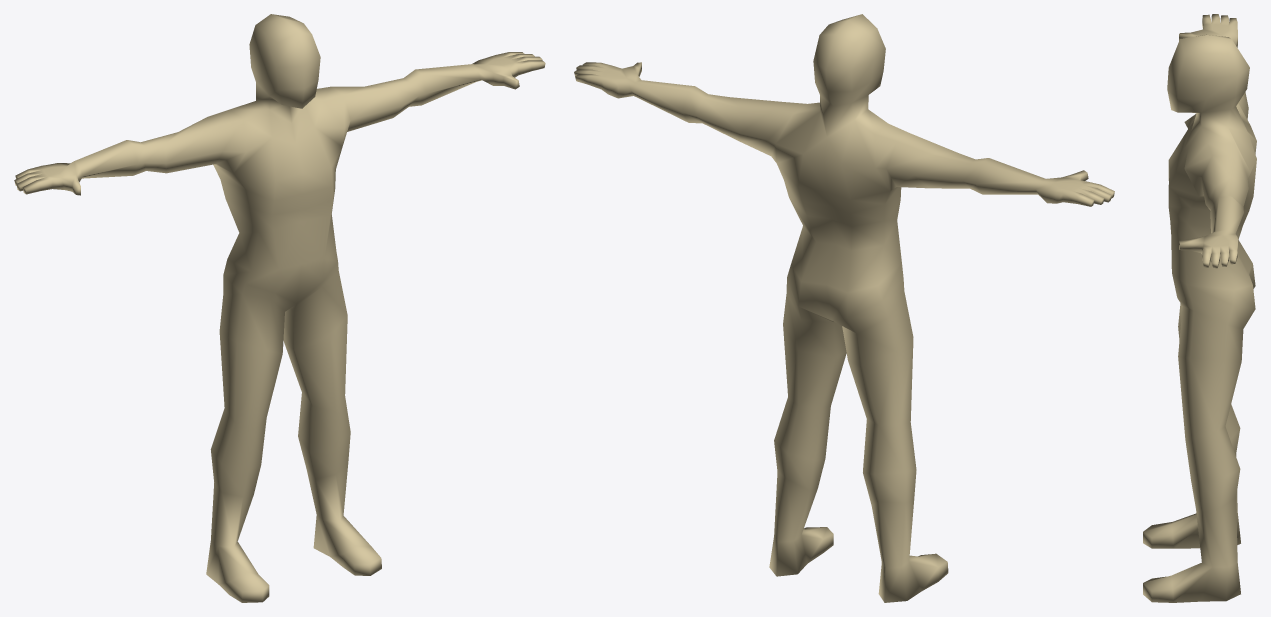
File: human_male.fbx
3 views of the same model, side by side, from view 1: azimuth 30°, elevation 25°; view 2: azimuth 150°, elevation 25°; view 3: azimuth 270°, elevation 25° (orthographic). The views are drawn at different scales.
Parts seen in each view (by area): view 1: HumanMale; view 2: HumanMale; view 3: HumanMale.
Boxes of the visible parts, x1,y1,x2,y2 form: HumanMale: (14,14,545,602); HumanMale: (574,14,1114,602); HumanMale: (1143,14,1256,602).
Size of the model in its own units: 1.87 by 1.87 by 0.3618.
